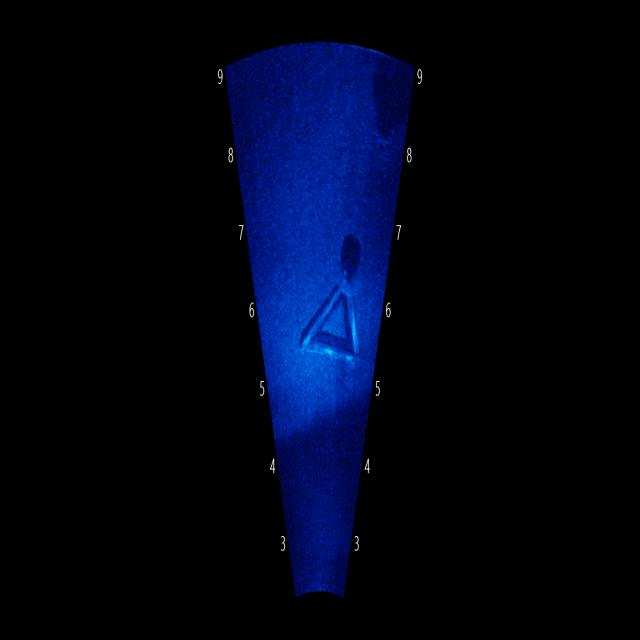triangle: (286, 226, 372, 394)
